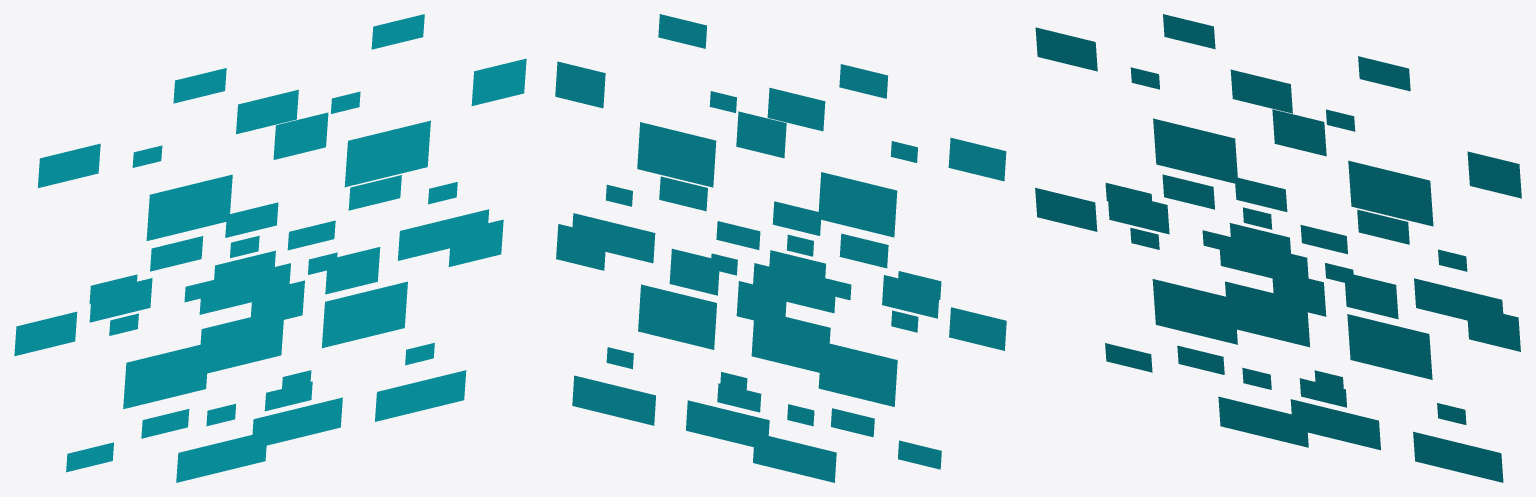
The model's file is SM_Wall_Glitch_Effect.fbx.
The picture shows the model from 3 angles, left to right: view 1: azimuth 30°, elevation 25°; view 2: azimuth 150°, elevation 25°; view 3: azimuth 330°, elevation 25°; orthographic projection. The views are drawn at different scales.
Visible parts, largest first — view 1: Glitch1, Glitch15, Glitch23, Glitch31, Glitch39, Glitch3, Glitch29, Glitch13, Glitch37, Glitch21, Glitch24, Glitch16 (+18 smaller); view 2: Glitch31, Glitch15, Glitch23, Glitch39, Glitch1, Glitch3, Glitch13, Glitch29, Glitch37, Glitch21, Glitch2, Glitch16 (+17 smaller); view 3: Glitch15, Glitch31, Glitch23, Glitch1, Glitch39, Glitch29, Glitch37, Glitch21, Glitch3, Glitch13, Glitch2, Glitch24 (+18 smaller).
Boxes of the visible parts, x1=… form: Glitch1: x1=198, y1=309, x2=284, y2=375; Glitch15: x1=344, y1=120, x2=430, y2=187; Glitch23: x1=146, y1=174, x2=232, y2=240; Glitch31: x1=322, y1=281, x2=407, y2=348; Glitch39: x1=123, y1=344, x2=206, y2=409; Glitch3: x1=251, y1=397, x2=342, y2=449; Glitch29: x1=375, y1=370, x2=466, y2=421; Glitch13: x1=398, y1=209, x2=489, y2=260; Glitch37: x1=176, y1=435, x2=266, y2=482; Glitch21: x1=199, y1=263, x2=290, y2=314; Glitch24: x1=273, y1=112, x2=328, y2=159; Glitch16: x1=471, y1=58, x2=526, y2=105; Glitch31: x1=638, y1=284, x2=716, y2=349; Glitch15: x1=637, y1=122, x2=716, y2=187; Glitch23: x1=818, y1=172, x2=897, y2=237; Glitch39: x1=818, y1=341, x2=897, y2=406; Glitch1: x1=751, y1=309, x2=830, y2=374; Glitch3: x1=686, y1=400, x2=769, y2=450; Glitch13: x1=571, y1=213, x2=655, y2=263; Glitch29: x1=572, y1=375, x2=655, y2=425; Glitch37: x1=753, y1=433, x2=836, y2=482; Glitch21: x1=752, y1=263, x2=835, y2=313; Glitch2: x1=669, y1=248, x2=719, y2=295; Glitch16: x1=555, y1=61, x2=605, y2=108; Glitch15: x1=1348, y1=160, x2=1433, y2=226; Glitch31: x1=1347, y1=314, x2=1432, y2=379; Glitch23: x1=1153, y1=118, x2=1238, y2=184; Glitch1: x1=1225, y1=281, x2=1309, y2=347; Glitch39: x1=1152, y1=279, x2=1237, y2=344; Glitch29: x1=1413, y1=431, x2=1503, y2=482; Glitch37: x1=1218, y1=396, x2=1308, y2=447; Glitch21: x1=1219, y1=236, x2=1309, y2=287; Glitch3: x1=1290, y1=399, x2=1380, y2=450; Glitch13: x1=1414, y1=278, x2=1503, y2=325; Glitch2: x1=1344, y1=272, x2=1398, y2=319; Glitch24: x1=1272, y1=109, x2=1326, y2=156.
Size of the model in its own units: 10.39 by 8.67 by 1.04.
